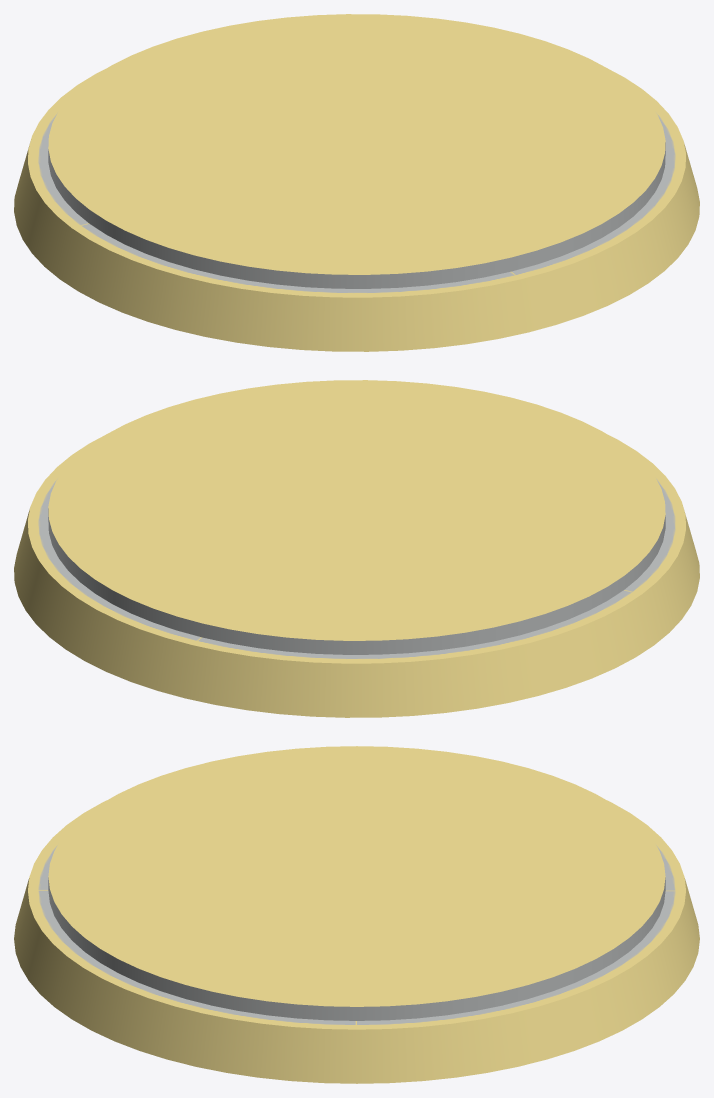
Rendered from SM_LampBBase.fbx.
The picture shows the model from 3 angles, top to bottom: view 1: azimuth 30°, elevation 25°; view 2: azimuth 150°, elevation 25°; view 3: azimuth 270°, elevation 25°; orthographic projection.
Parts seen in each view (by area): view 1: SM_LampBBase_LOD0; view 2: SM_LampBBase_LOD0; view 3: SM_LampBBase_LOD0.
Part boxes in pixels (x1,y1,x2,y2): SM_LampBBase_LOD0: [14, 14, 699, 351]; SM_LampBBase_LOD0: [14, 380, 699, 717]; SM_LampBBase_LOD0: [14, 746, 699, 1083].
Bounding box in the file's own units: 200 × 200 × 20.
1 material, 1 textured.
